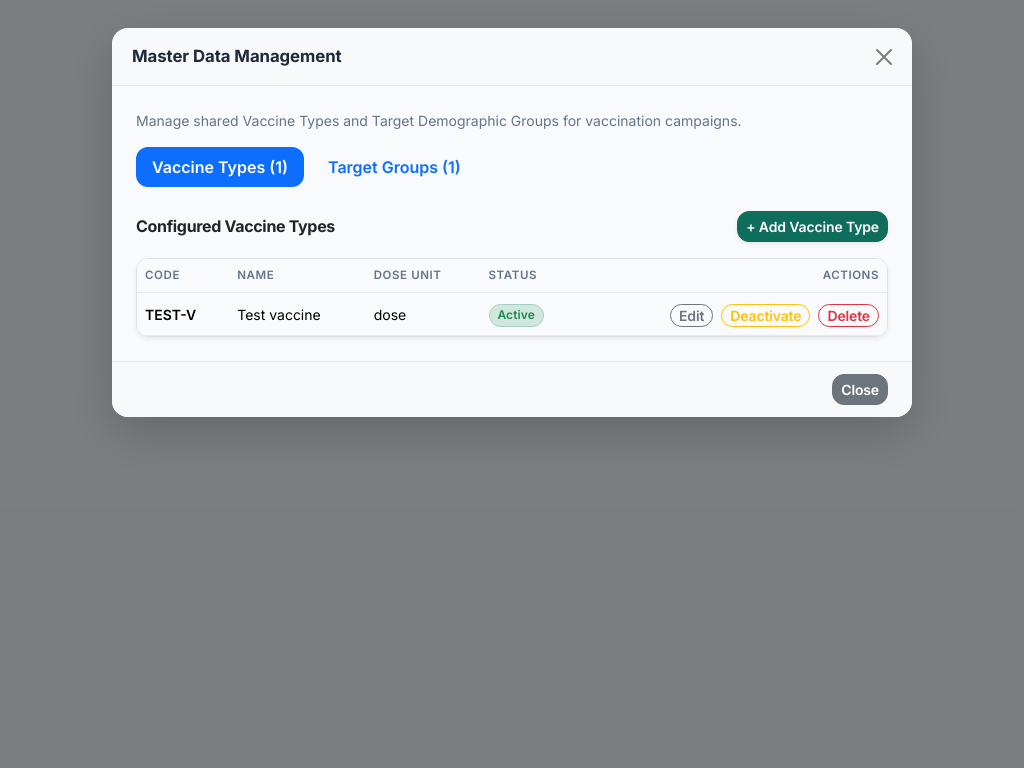
Test: vaccine deletion › removes the row, updates the count and clears its edit form
Expected: the text "TEST-V" is shown, [137,293,229,335]
Expected: the button "Target Groups (1)" is shown, [312,147,477,187]
What coordinates should you click on to do the following:
click the button "Edit"
I would click on:
 (692, 315)
Its box is [670,304,713,327].
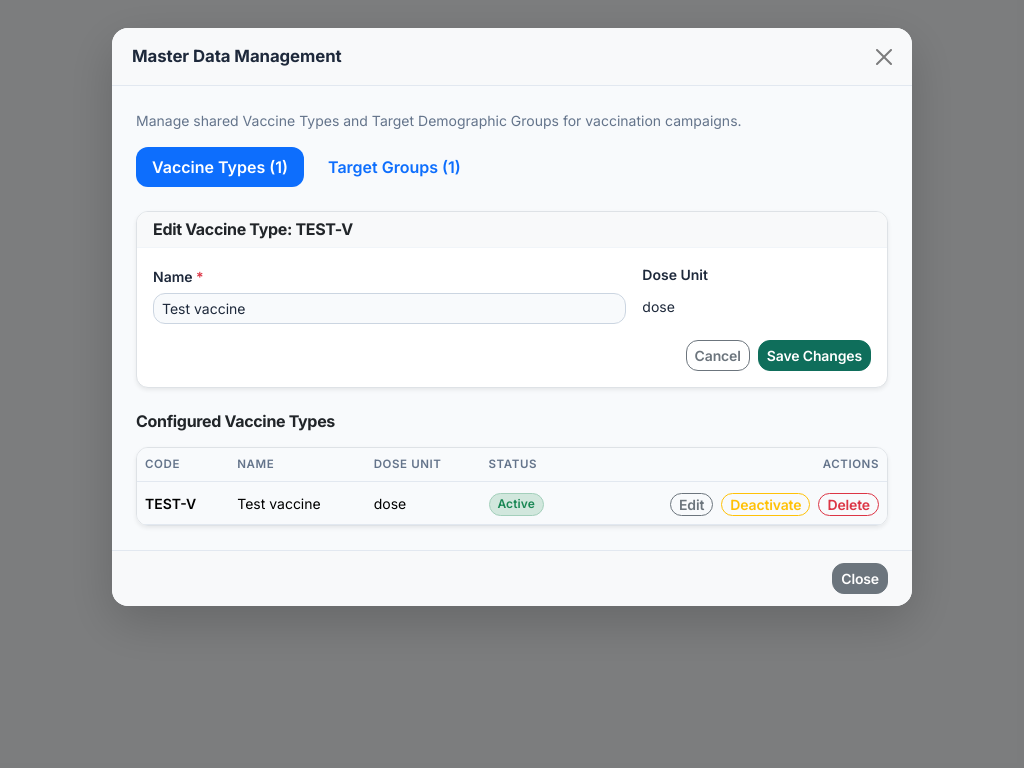
What coordinates should you click on to do the following:
click the button "Delete"
I would click on:
 (849, 504)
Its box is [818,493,879,516].
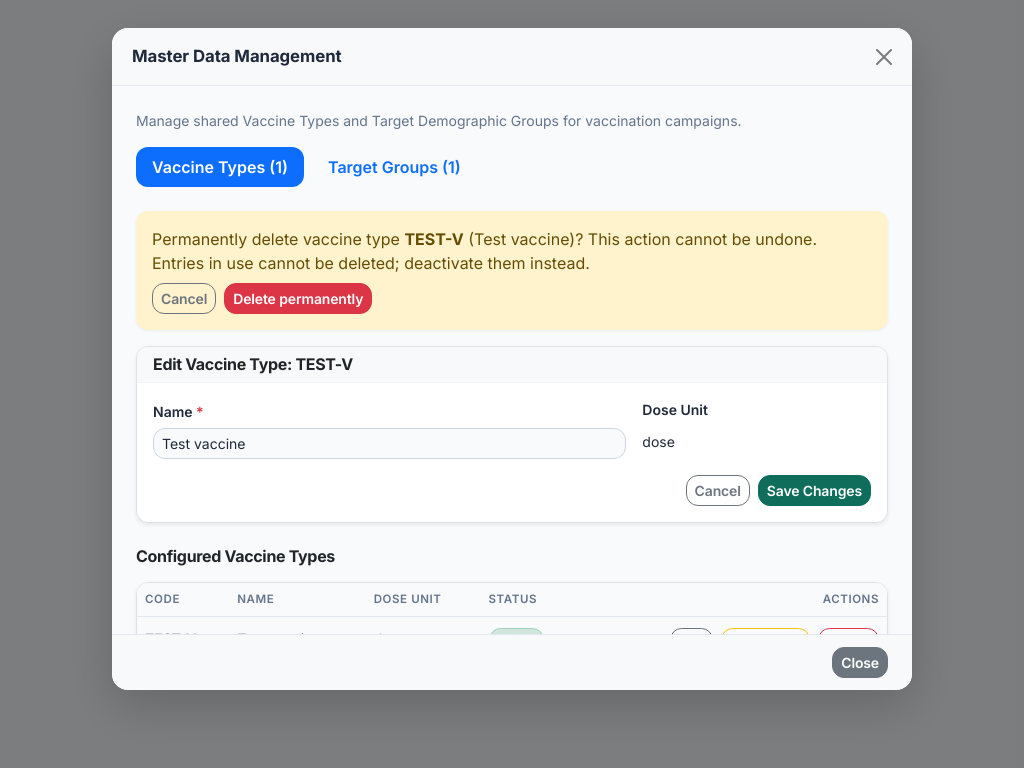
What coordinates should you click on to do the following:
click the button "Delete permanently"
I would click on:
 (298, 299)
Its box is [224,283,372,314].
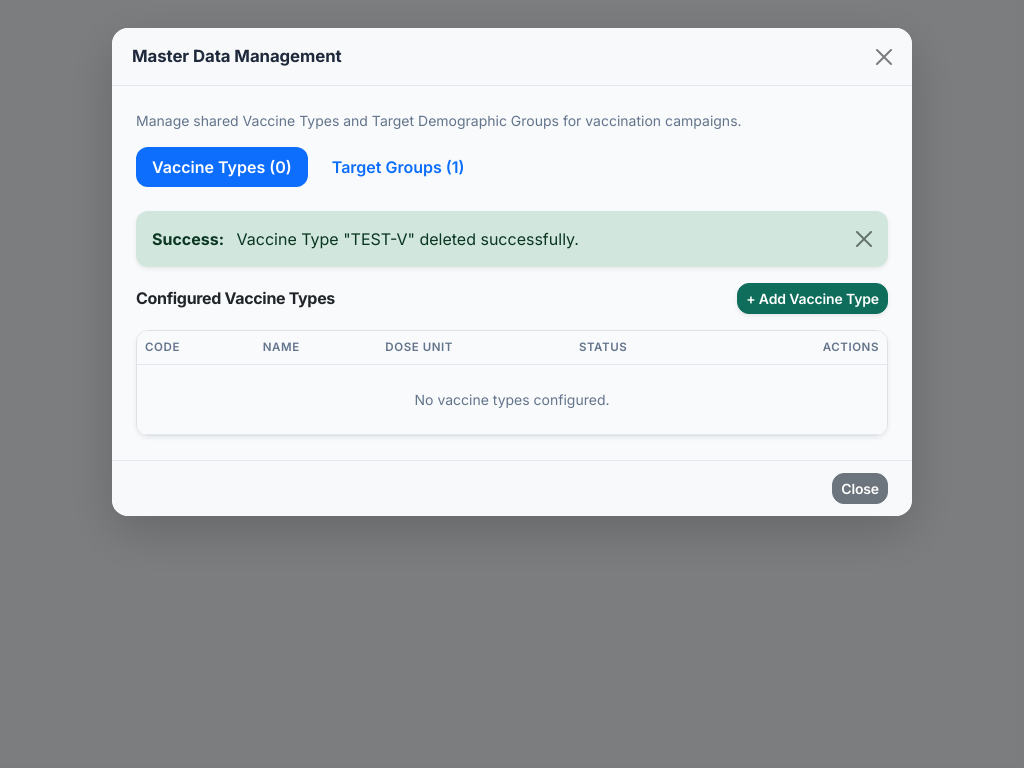
Expected: the text "Success: Vaccine Type \"TEST-V\" deleted successfully." is shown, [136,211,888,267]
Expected: the button "Save Changes" is gone
Expected: the text "No vaccine types configured." is shown, [137,365,887,435]
